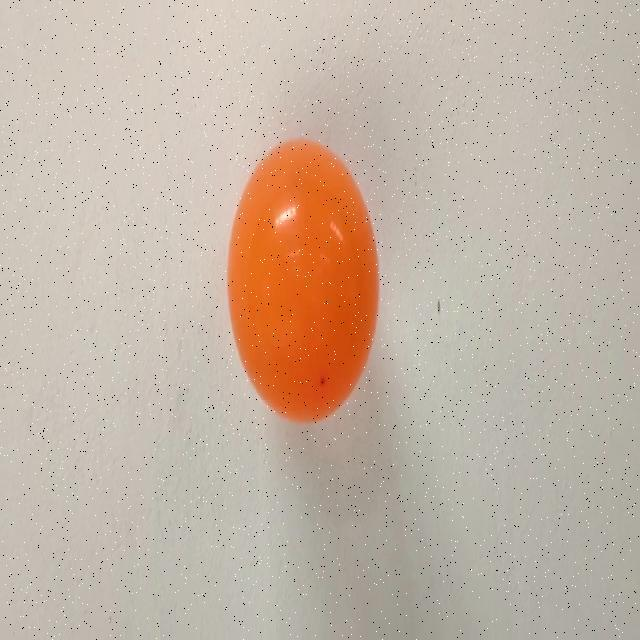red: (225, 136, 379, 423)
